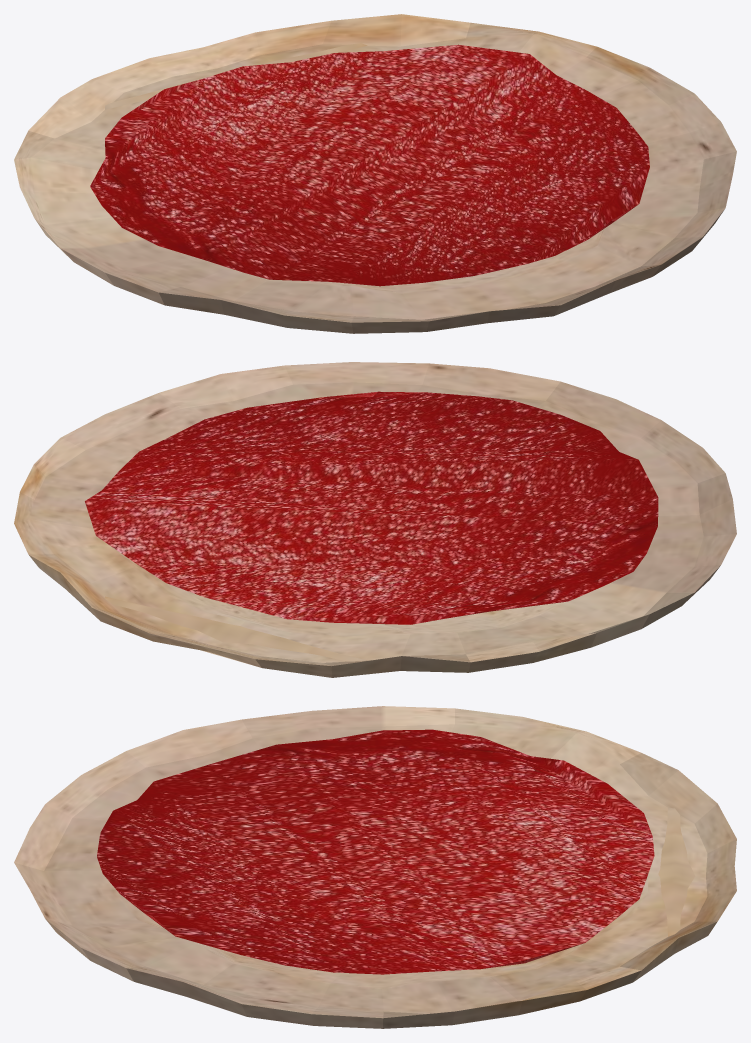
File: pizzabodem_rauw_saus_fase_3.glb
3 views of the same model, one above another, from view 1: azimuth 30°, elevation 25°; view 2: azimuth 150°, elevation 25°; view 3: azimuth 270°, elevation 25° (orthographic).
Visible parts, largest first — view 1: Cylinder.002, Sphere; view 2: Cylinder.002, Sphere; view 3: Cylinder.002, Sphere.
Part boxes in pixels (x1,y1,x2,y2): Cylinder.002: (90, 44, 649, 286); Sphere: (14, 14, 736, 333); Cylinder.002: (85, 391, 658, 624); Sphere: (14, 362, 736, 677); Cylinder.002: (97, 729, 654, 974); Sphere: (14, 706, 736, 1028).
Bounding box in the file's own units: 3.09 × 0.1324 × 3.03.
Materials: 2 (2 with a texture image).
